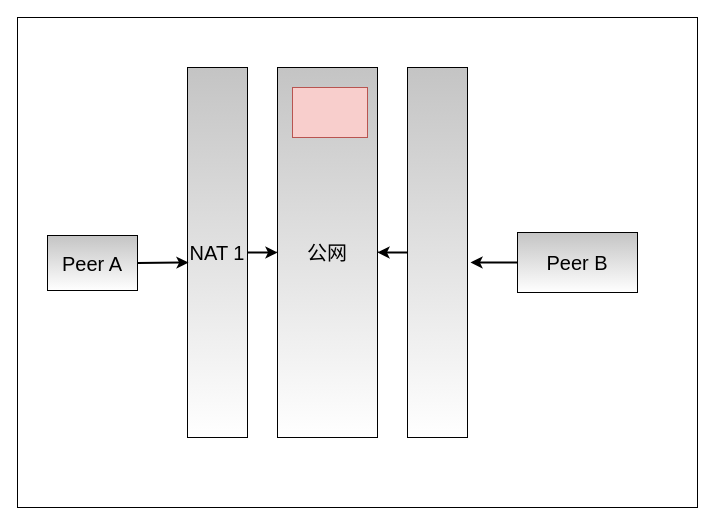
This 715x525 diagram has some shape labels left out. The box of each missing label's shape, as (x1, y1, x2, y2) in pixels:
NAT 2: (406, 66, 468, 438)
STUN Server: (292, 86, 368, 138)
